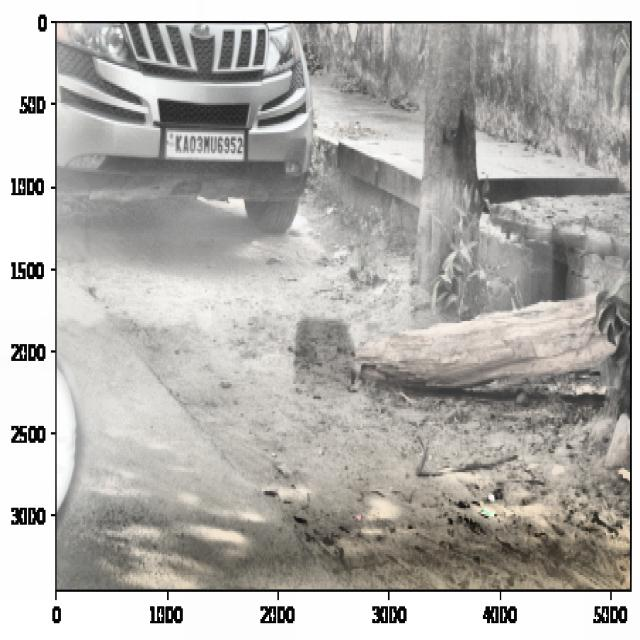license_plate: (172, 130, 248, 164)
